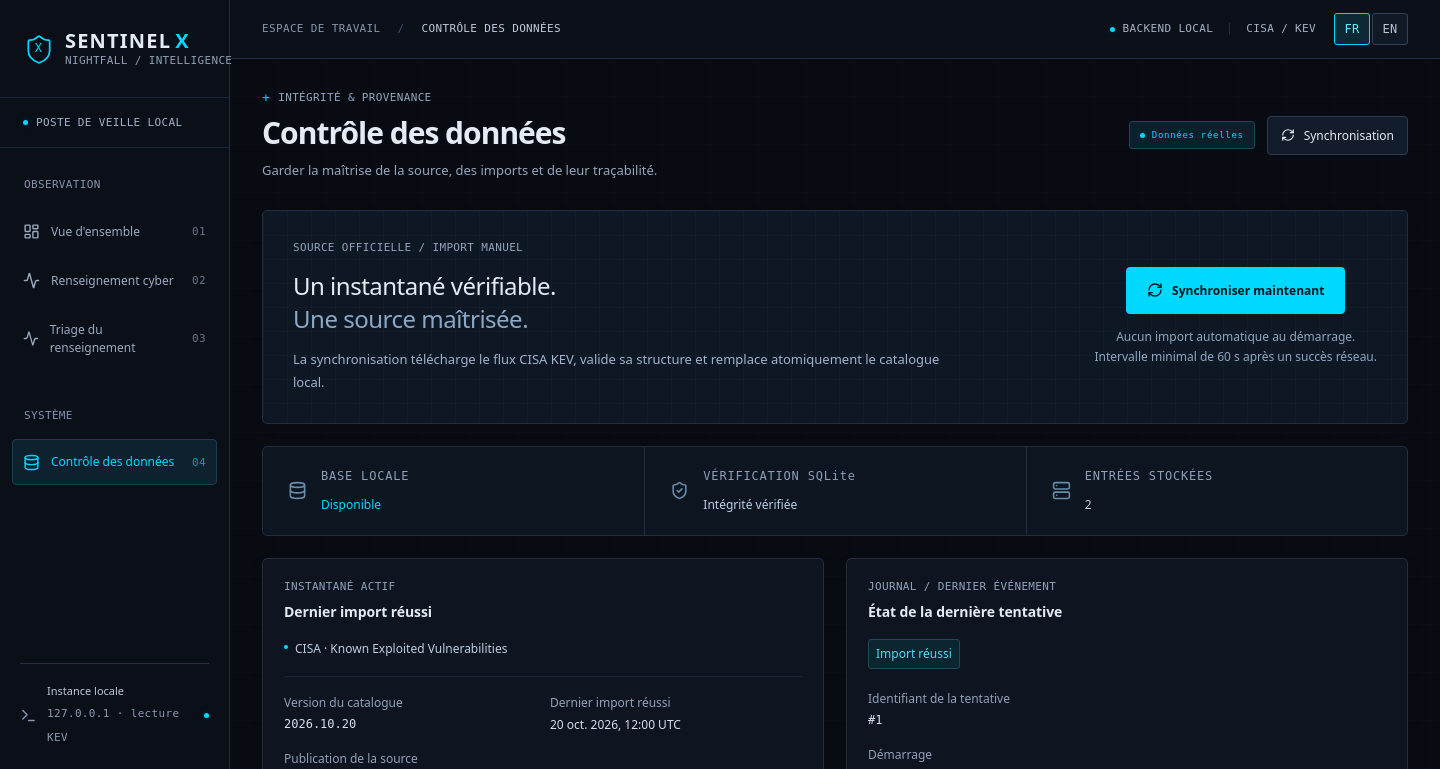
Test: re-localizes a verified sync message even if language changed while the POST was pending
The image size is (1440, 769).
Click the button "Synchroniser maintenant".
click(1236, 290)  # box [1126,267,1345,314]
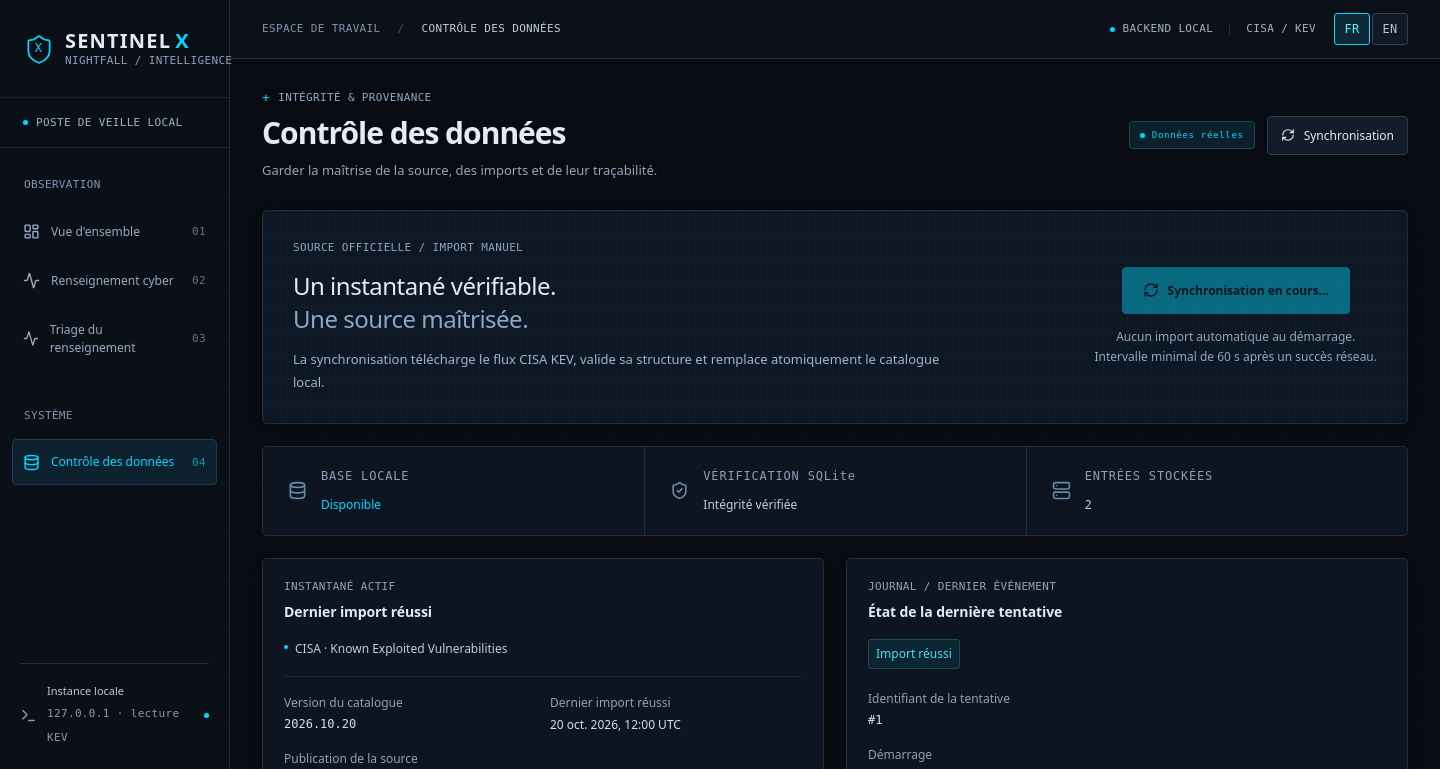
Click the button with aria-label "English".
click(1390, 29)  # box [1372,13,1408,45]
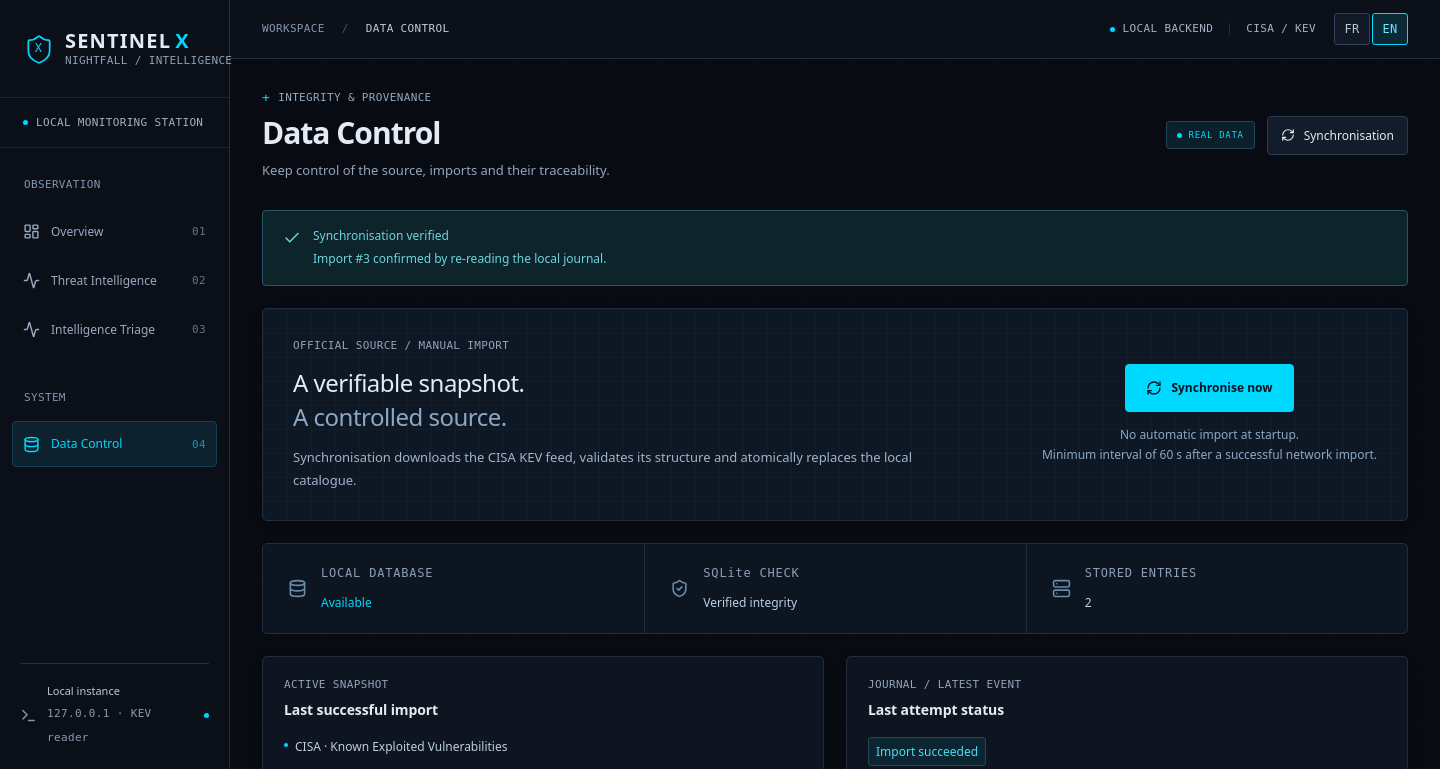
Expected: the text "Synchronisation verified" is shown, [313,227,449,244]
Expected: the text "Import #3 confirmed by re-reading the local journal." is shown, [313,249,606,269]
Click the button with aria-label "Français".
click(1352, 29)  # box [1334,13,1370,45]
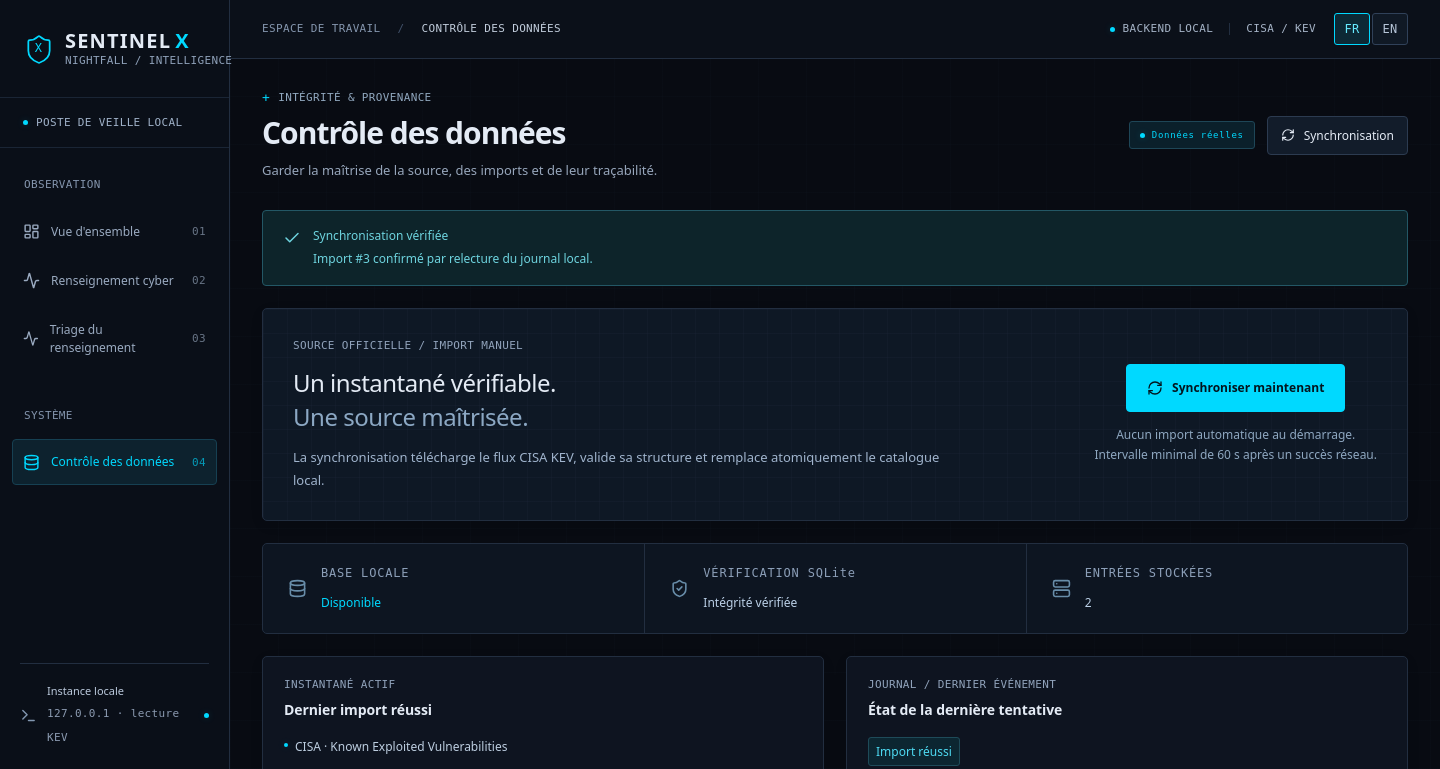
Expected: the text "Synchronisation vérifiée" is shown, [313,227,448,244]
Expected: the text "Import #3 confirmé par relecture du journal local." is shown, [313,249,593,269]
